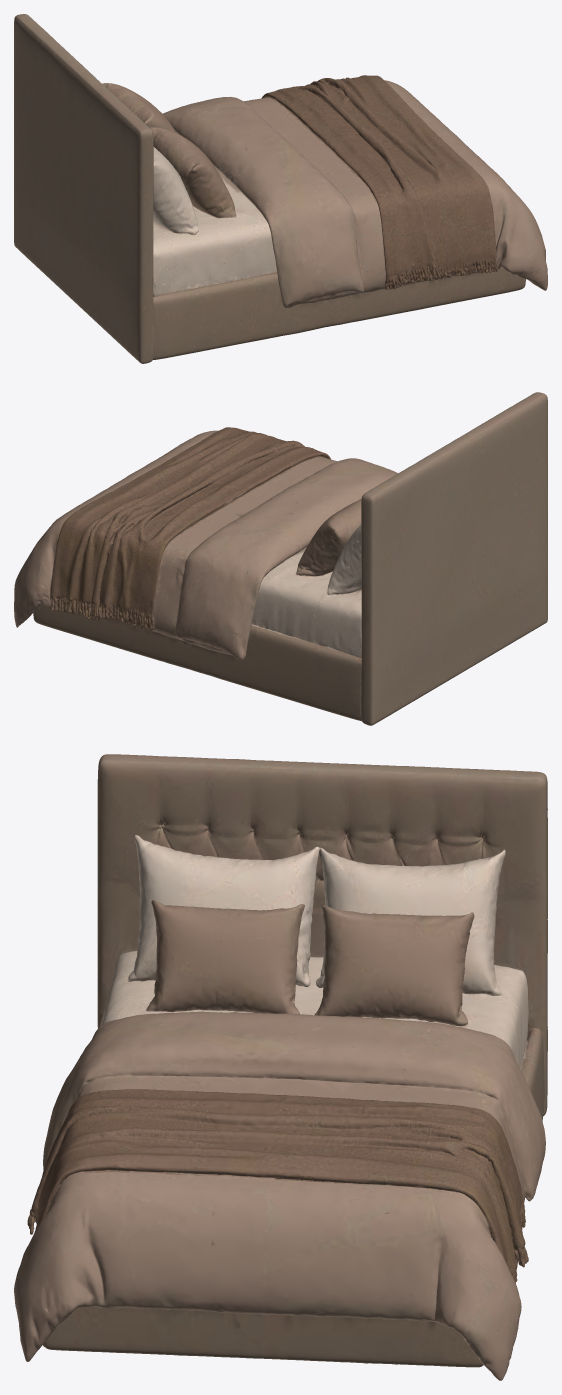
The model's file is room_bed.glb.
The picture shows the model from 3 angles, top to bottom: view 1: azimuth 30°, elevation 25°; view 2: azimuth 150°, elevation 25°; view 3: azimuth 270°, elevation 25°; orthographic projection. The views are drawn at different scales.
Visible parts, largest first — view 1: mesh_node; view 2: mesh_node; view 3: mesh_node.
Part boxes in pixels (box(x1,y1,x2,y2)): mesh_node: box(14, 14, 547, 363); mesh_node: box(14, 392, 547, 725); mesh_node: box(14, 754, 547, 1380).
Bounding box in the file's own units: 2.25 × 1.23 × 1.73.
1 material, 1 textured.
